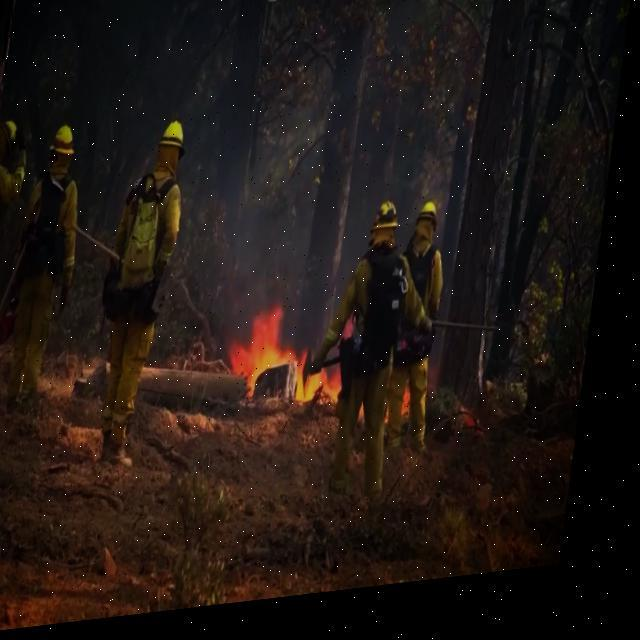Fire: (226, 305, 354, 431), (414, 398, 423, 428)
